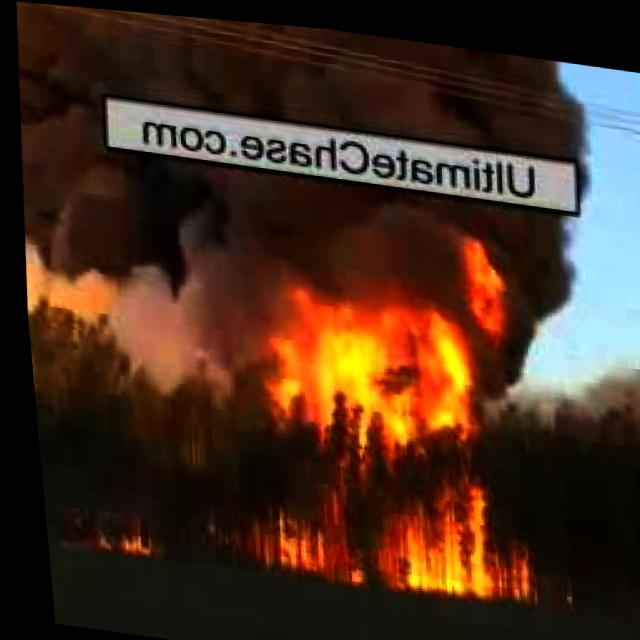Fire: (207, 428, 532, 600), (227, 271, 484, 445), (452, 234, 516, 331), (79, 513, 149, 557)
Smoke: (13, 144, 570, 325), (13, 1, 596, 152)
